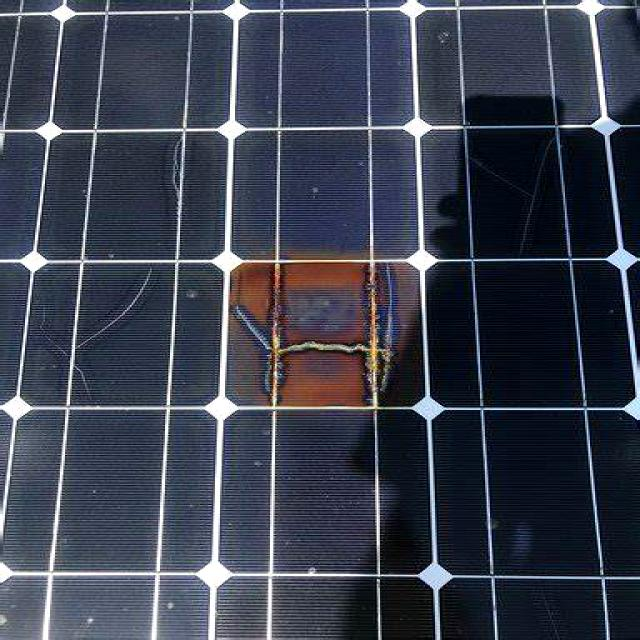shadow: (200, 243, 458, 422), (11, 264, 188, 403)
